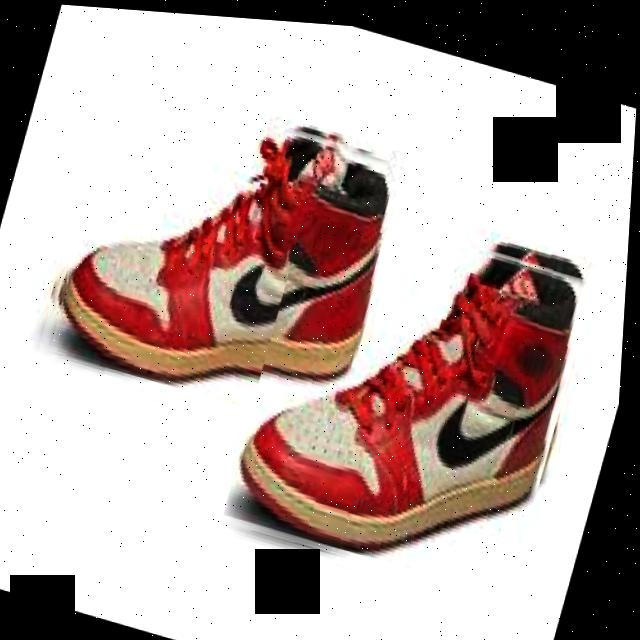shoe: (0, 59, 631, 609), (224, 182, 602, 593), (38, 64, 416, 431)
